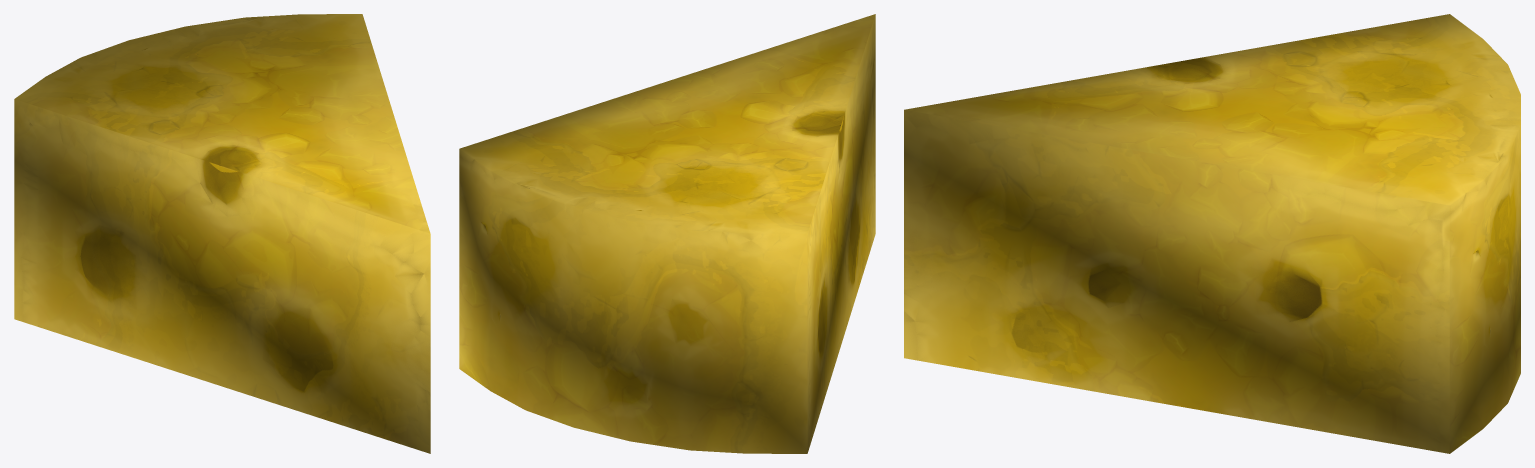
The model's file is cheese.fbx.
3 views of the same model, side by side, from view 1: azimuth 30°, elevation 25°; view 2: azimuth 150°, elevation 25°; view 3: azimuth 270°, elevation 25° (orthographic). The views are drawn at different scales.
Visible parts, largest first — view 1: cheese; view 2: cheese; view 3: cheese.
Boxes of the visible parts, bbox=[...] form: cheese: bbox=[14, 14, 430, 453]; cheese: bbox=[459, 14, 875, 453]; cheese: bbox=[904, 14, 1520, 453].
Bounding box in the file's own units: 218 × 132 × 296.
1 material, 1 textured.
